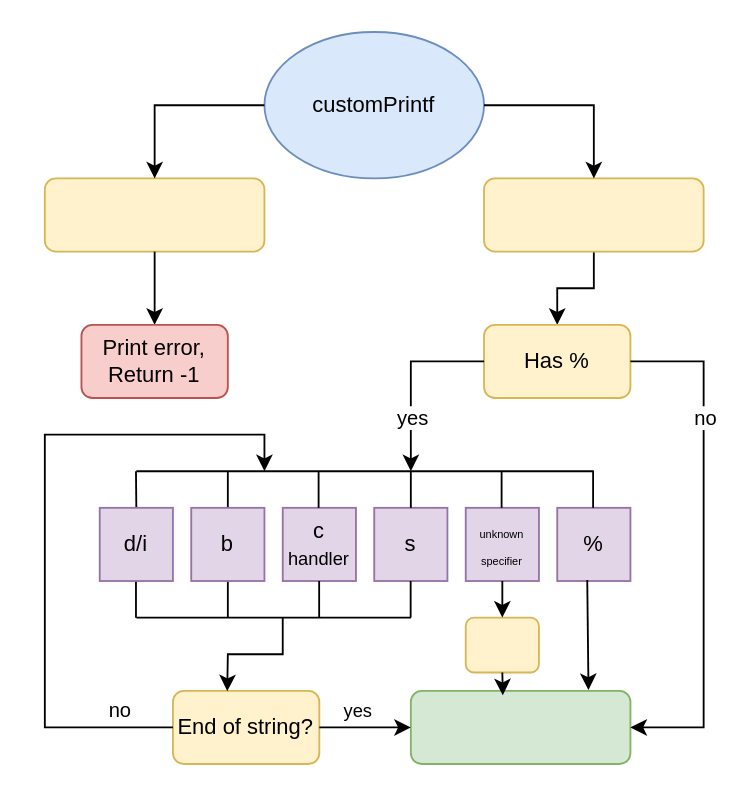
Image size: 750x796. Some labels were removed from this diagram. The centre of each missing label's shape, as x and y in pixels:
"Format == Null" belongs at pixel 153 214.
"Not Null" belongs at pixel 593 214.
"Output & return count" belongs at pixel 519 726.
"print % + char" belongs at pixel 501 644.
